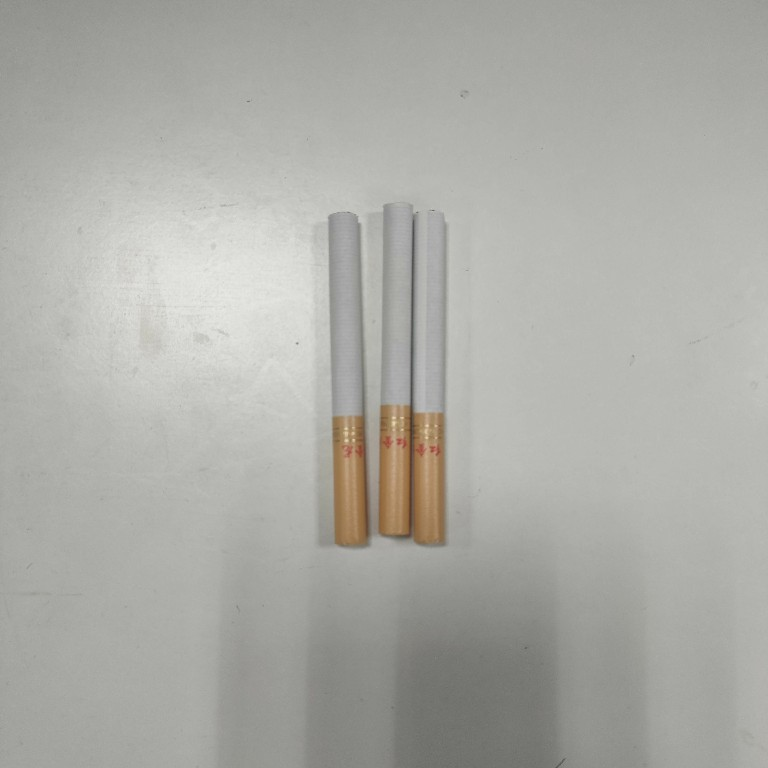cigarette: (324, 209, 372, 557), (374, 201, 417, 544), (409, 206, 450, 549)
